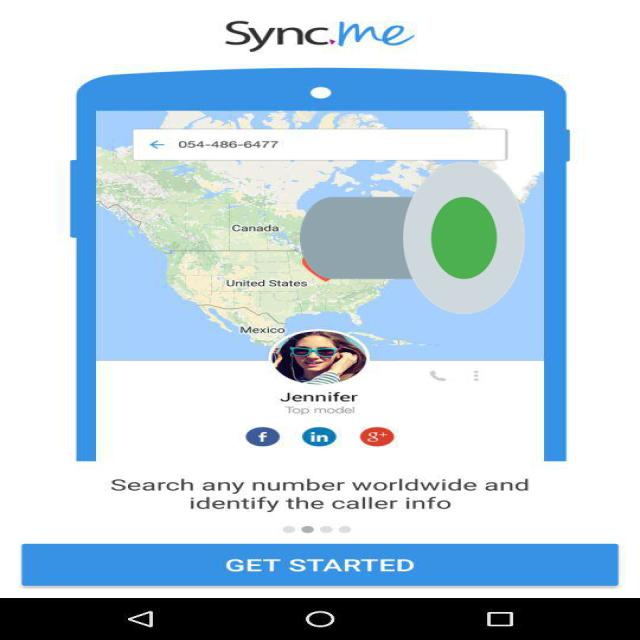social proof: (300, 97, 525, 379)
